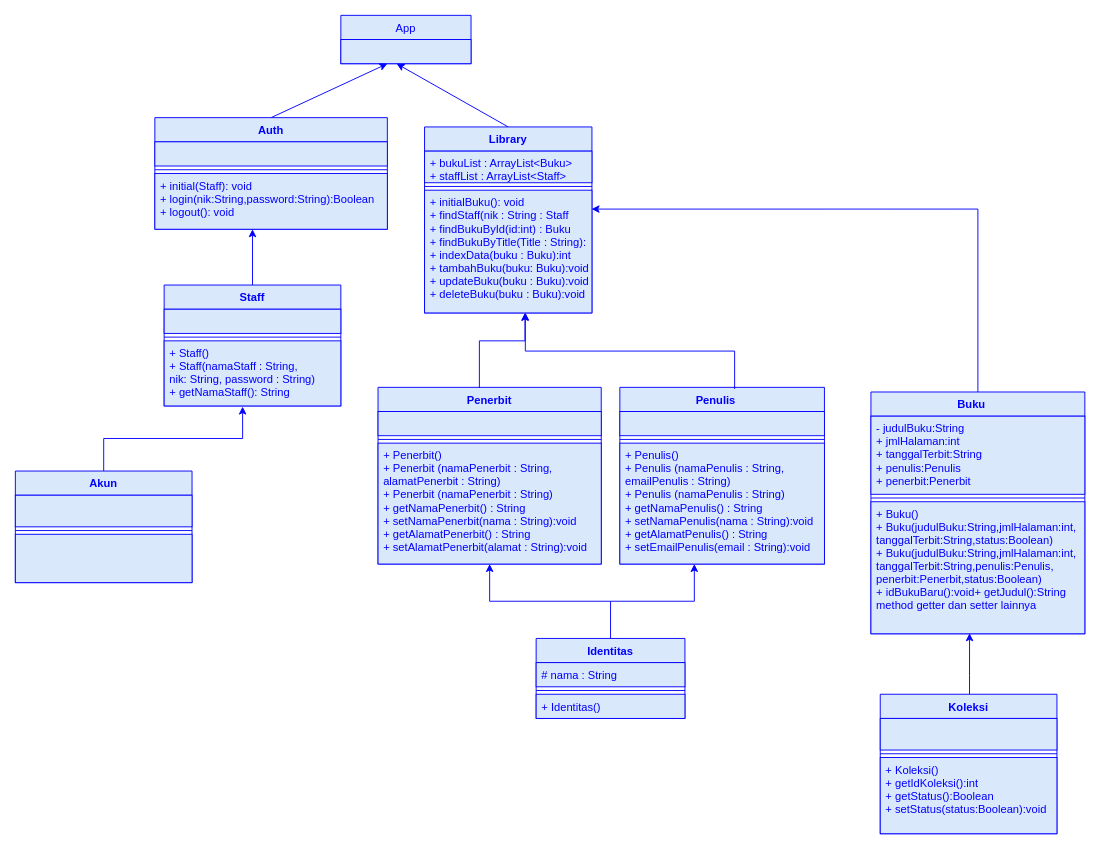
Some shapes in this 1100 by 849 pixel diagram are drawn without their labels. The shapes that lost their labels are listed below. From the top down, each one's centre as x and y in pixels, then its label:
pixel 405 51: + main(): void
pixel 270 153: + staffLogged: Staff
pixel 252 320: - namaStaff : String
pixel 489 423: - alamatPenerbit : String
pixel 721 423: - emailPenulis : String
pixel 103 510: # nik : String # password : String
pixel 103 558: + Akun() + getNik() : String + getPassword() : String
pixel 968 733: # idKoleksi:int # status: Boolean
